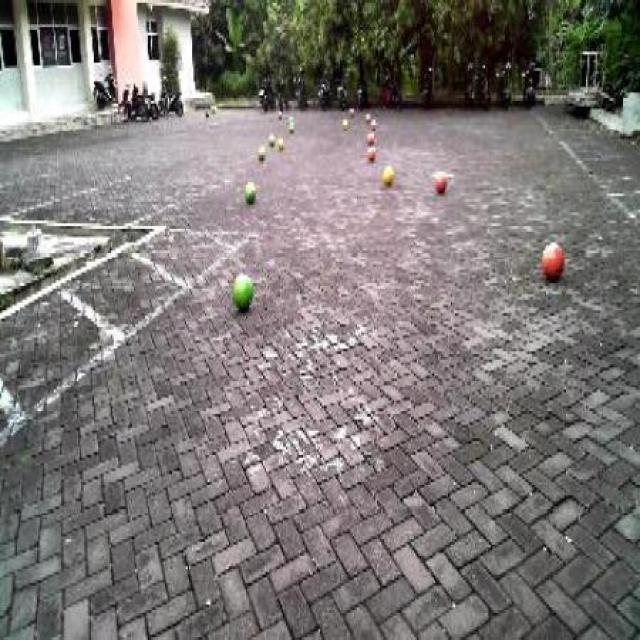buoy: (538, 236, 567, 286), (230, 265, 256, 315), (243, 176, 259, 208), (432, 168, 448, 195), (380, 162, 395, 189), (365, 144, 376, 166), (255, 143, 266, 161)
